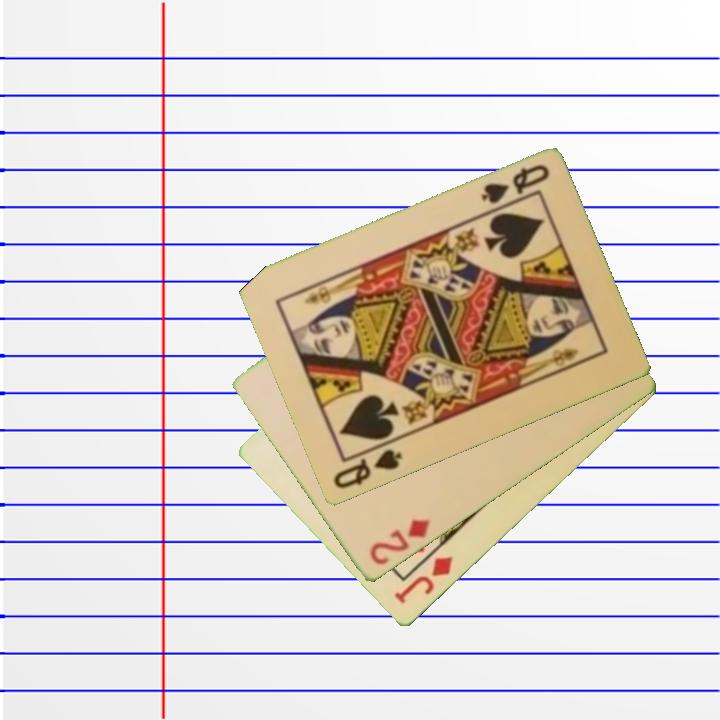2d: (366, 516, 433, 569)
Jd: (391, 553, 456, 607)
Qs: (477, 161, 552, 215), (329, 446, 405, 492)
